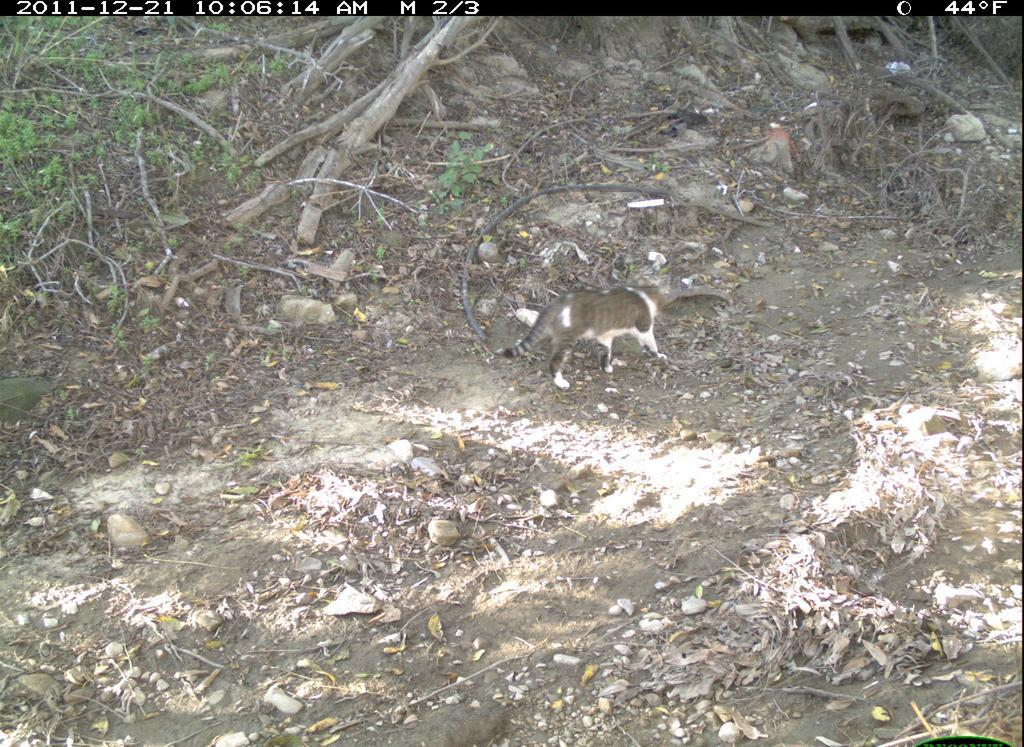cat: (498, 265, 676, 400)
